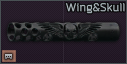AR-15 Unique-ARs Wing & Skull 12 inch handguard: (0, 0, 127, 64)
